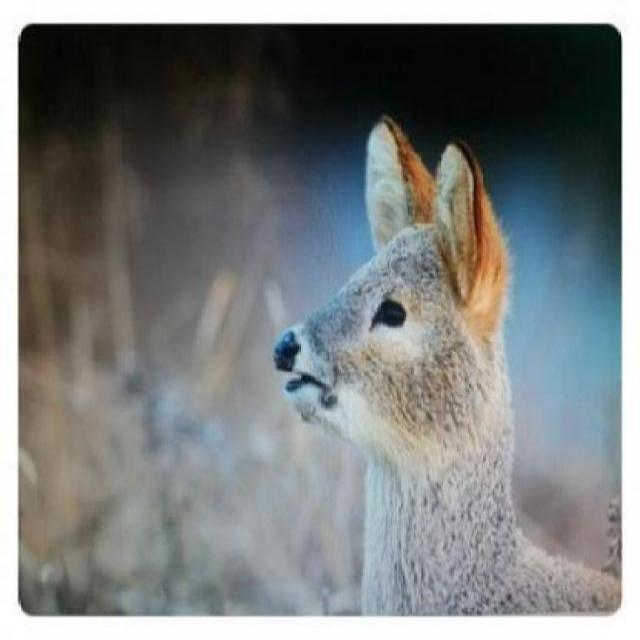deer: (272, 114, 623, 617)
